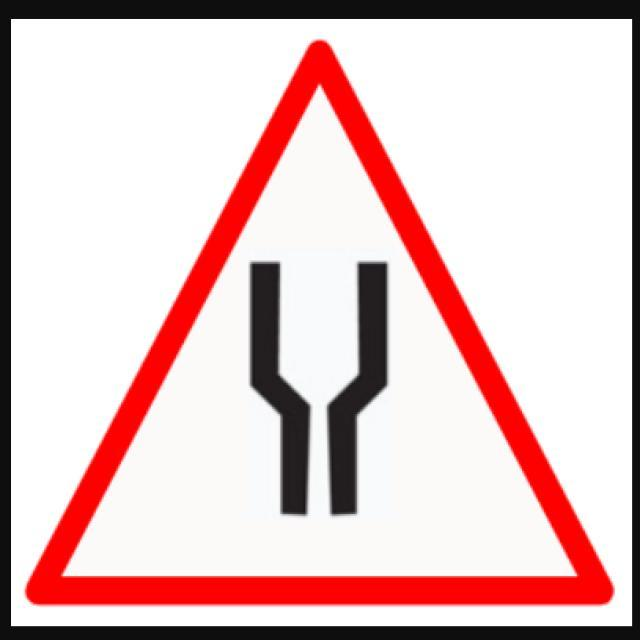road widens ahead: (29, 44, 615, 613)
